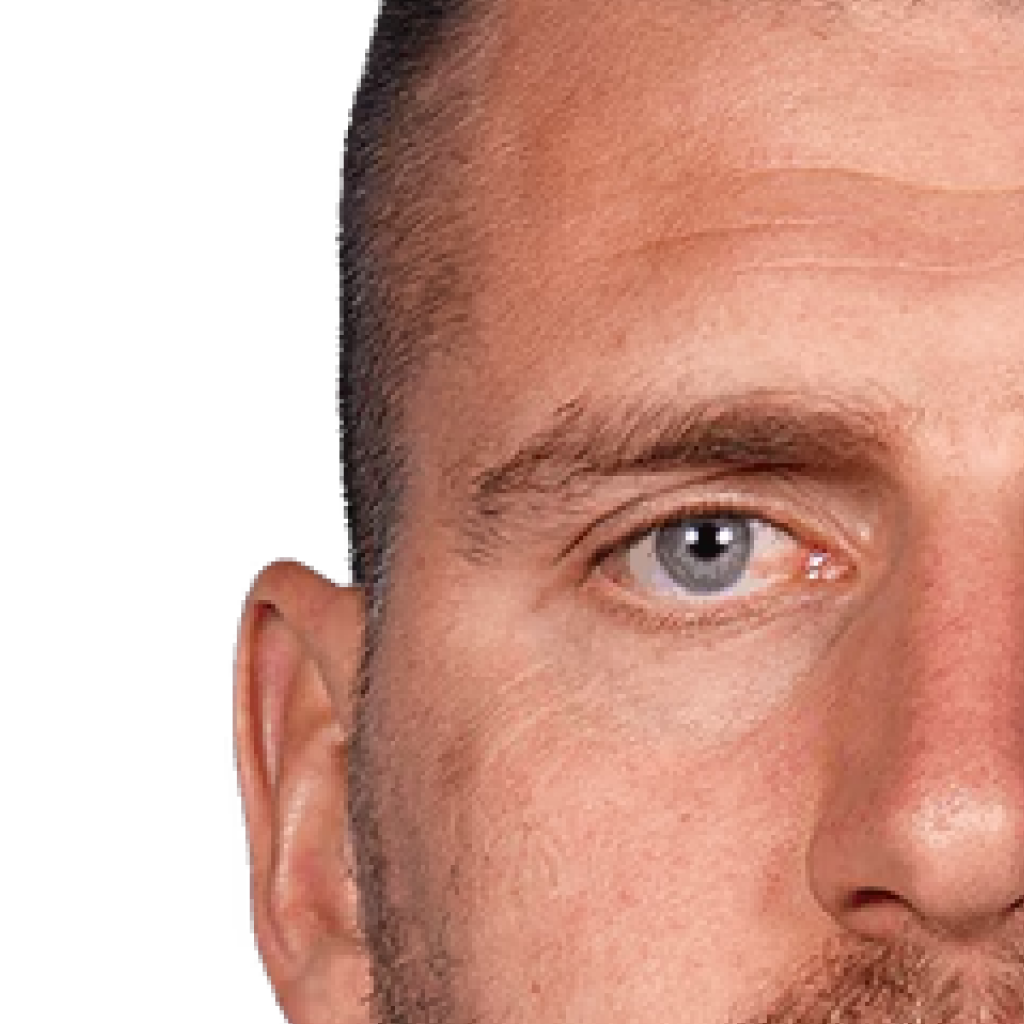iris: (656, 515, 750, 595)
pupil: (687, 524, 724, 561)
sclera: (731, 521, 804, 597), (632, 535, 684, 593)
